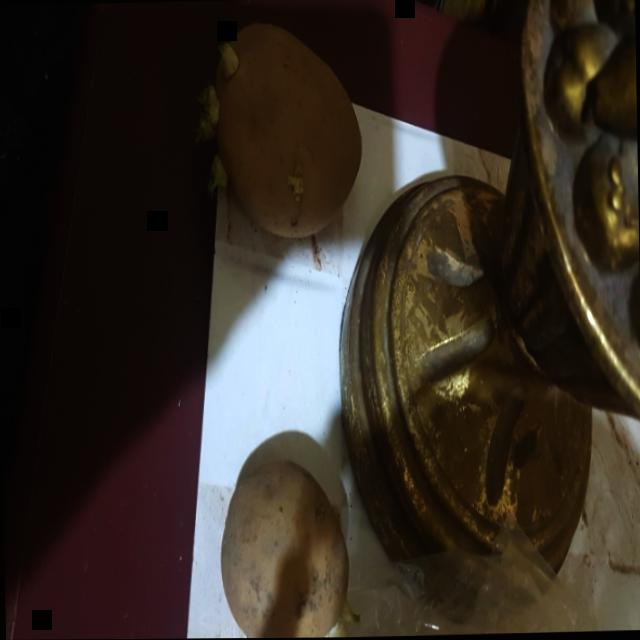potato: (199, 14, 369, 247), (217, 461, 366, 639)
